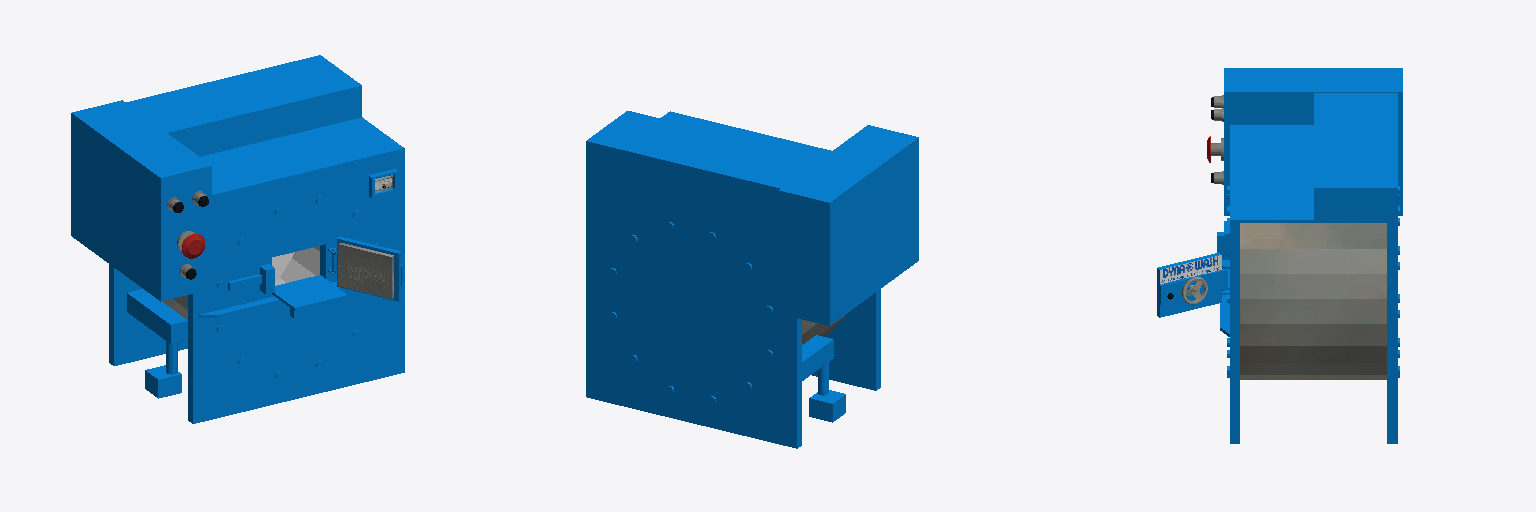
3 renders of one model, left to right at view 1: azimuth 30°, elevation 25°; view 2: azimuth 150°, elevation 25°; view 3: azimuth 270°, elevation 25°, orthographic.
Parts seen in each view (by area): view 1: Washer.obj; view 2: Washer.obj; view 3: Washer.obj.
Boxes of the visible parts, box(x1,y1,x2,y2) form: Washer.obj: box(71, 55, 404, 423); Washer.obj: box(586, 111, 918, 448); Washer.obj: box(1157, 68, 1402, 443).
Size of the model in its own units: 14.04 by 13.97 by 12.14.
2 materials, 1 textured.